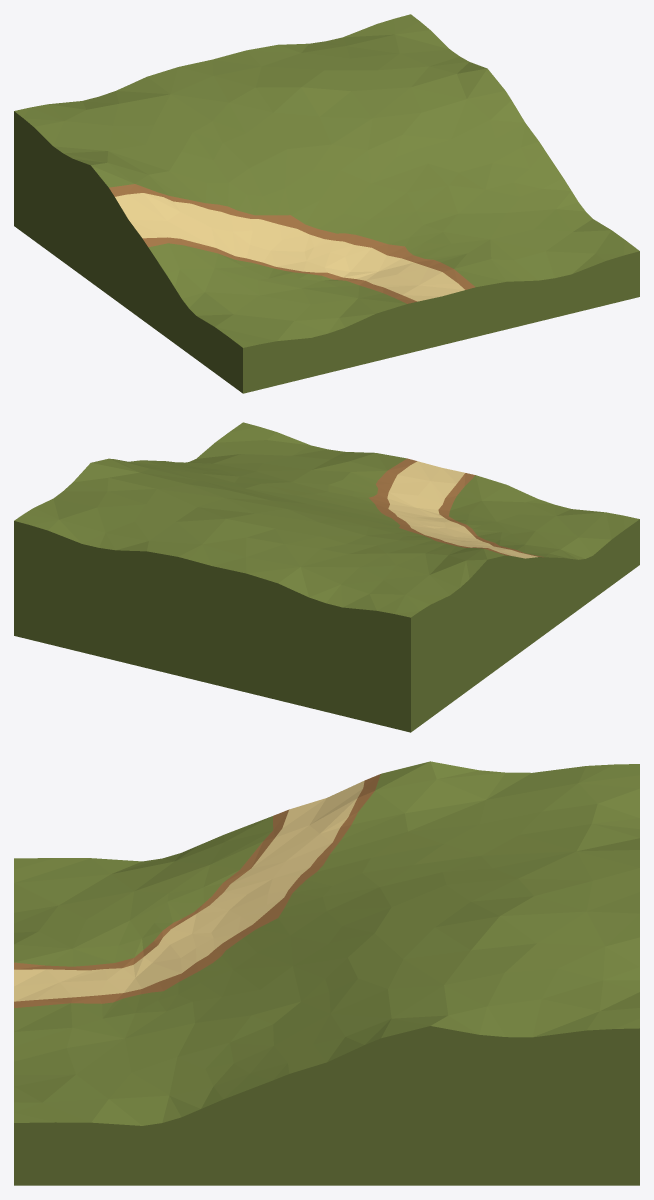
Rendered from Terrian_Road_Bend_Hill-02.fbx.
The picture shows the model from 3 angles, top to bottom: view 1: azimuth 30°, elevation 25°; view 2: azimuth 150°, elevation 25°; view 3: azimuth 270°, elevation 25°; orthographic projection. The views are drawn at different scales.
Visible parts, largest first — view 1: Terrian_Road_Bend_Hill-02; view 2: Terrian_Road_Bend_Hill-02; view 3: Terrian_Road_Bend_Hill-02.
Boxes of the visible parts, x1,y1,x2,y2 form: Terrian_Road_Bend_Hill-02: (14,14,639,393); Terrian_Road_Bend_Hill-02: (14,422,639,732); Terrian_Road_Bend_Hill-02: (14,761,639,1185).
Bounding box in the file's own units: 3600 × 1031 × 3600.
Materials: 1 (1 with a texture image).
